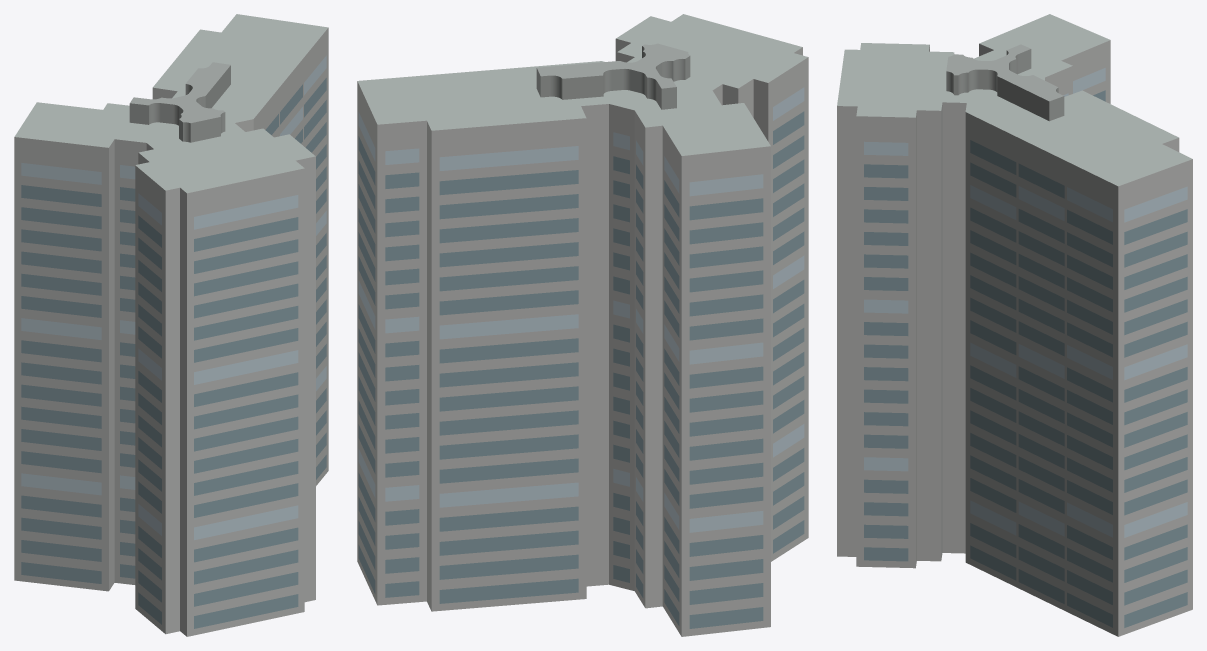
File: fallback-geumho-park-hills-103.glb
3 views of the same model, side by side, from view 1: azimuth 30°, elevation 25°; view 2: azimuth 150°, elevation 25°; view 3: azimuth 270°, elevation 25° (orthographic). The views are drawn at different scales.
Visible parts, largest first — view 1: fallback-geumho-park-hills-103; view 2: fallback-geumho-park-hills-103; view 3: fallback-geumho-park-hills-103.
Boxes of the visible parts, x1=… form: fallback-geumho-park-hills-103: x1=14, y1=14, x2=328, y2=636; fallback-geumho-park-hills-103: x1=357, y1=14, x2=808, y2=636; fallback-geumho-park-hills-103: x1=837, y1=14, x2=1192, y2=636.
Size of the model in its own units: 44.81 by 57 by 39.1.
